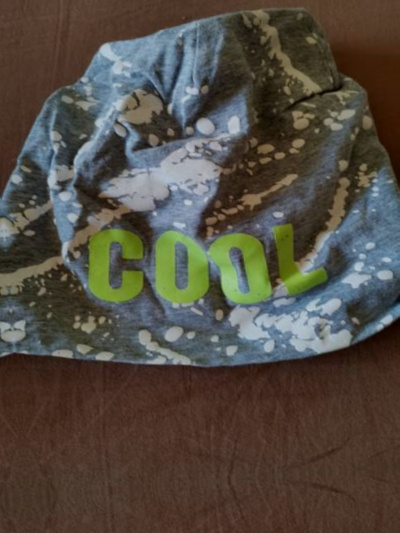Hat: (0, 0, 400, 395), (0, 29, 17, 431), (399, 0, 400, 359)
